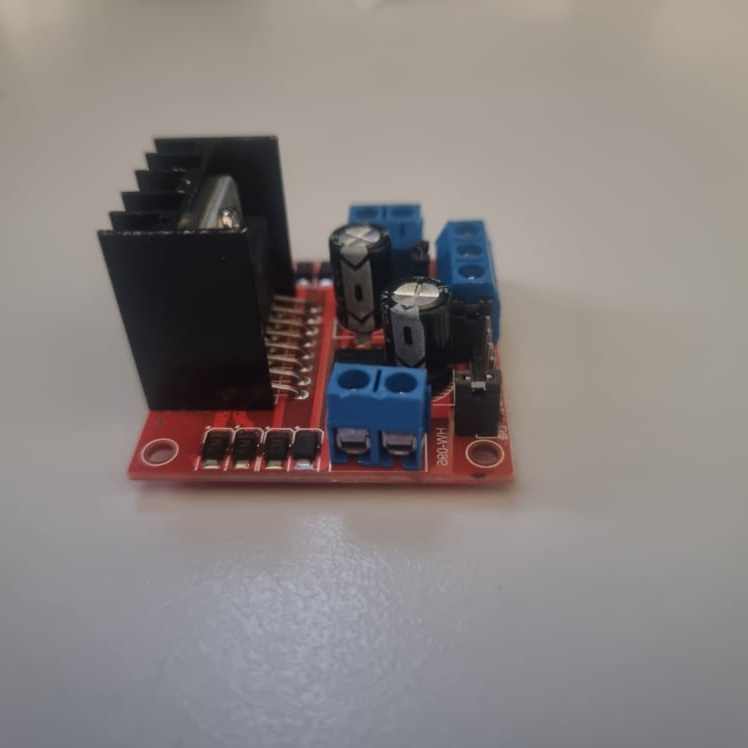MOTOR: (98, 133, 514, 484)
